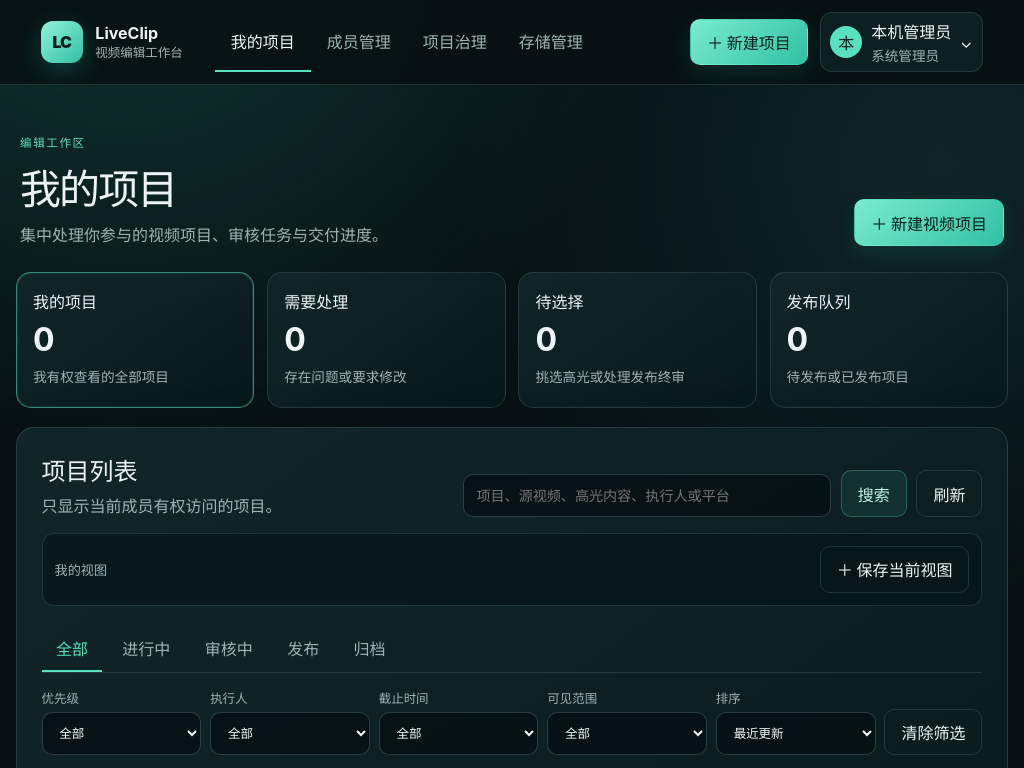
Test: project list states › keeps the optional Bearer token in memory while sending it to the API
This screenshot has width=1024, height=768.
Click the button with aria-label "打开账户与系统设置".
click(901, 42)  # box [820,12,983,72]
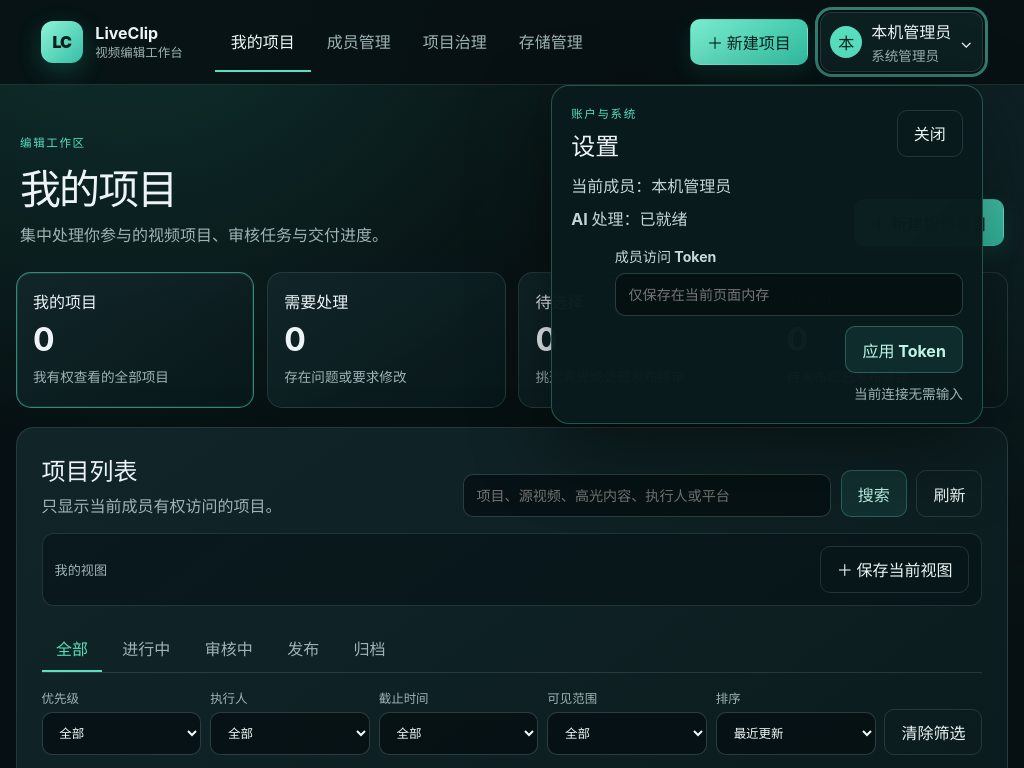
Type "temporary-browser-token" into the password field labelled "成员访问 Token".
click(789, 294); type("temporary-browser-token")  # box [615,273,963,316]
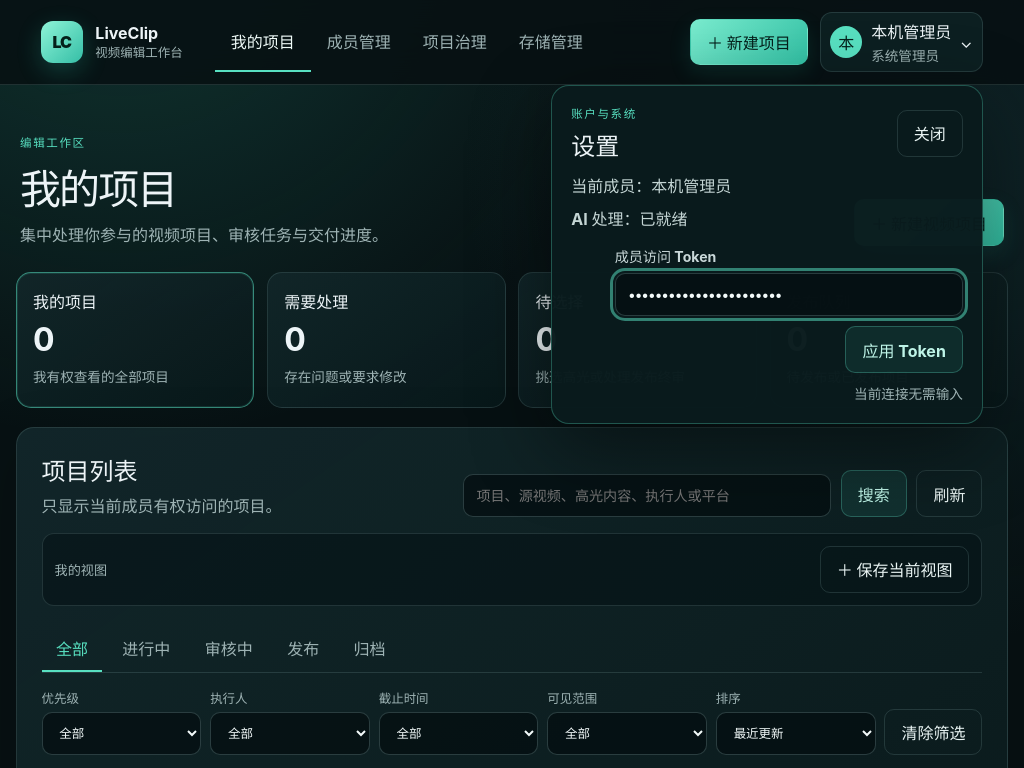
Click the button "应用 Token".
click(904, 350)  # box [845,326,963,373]
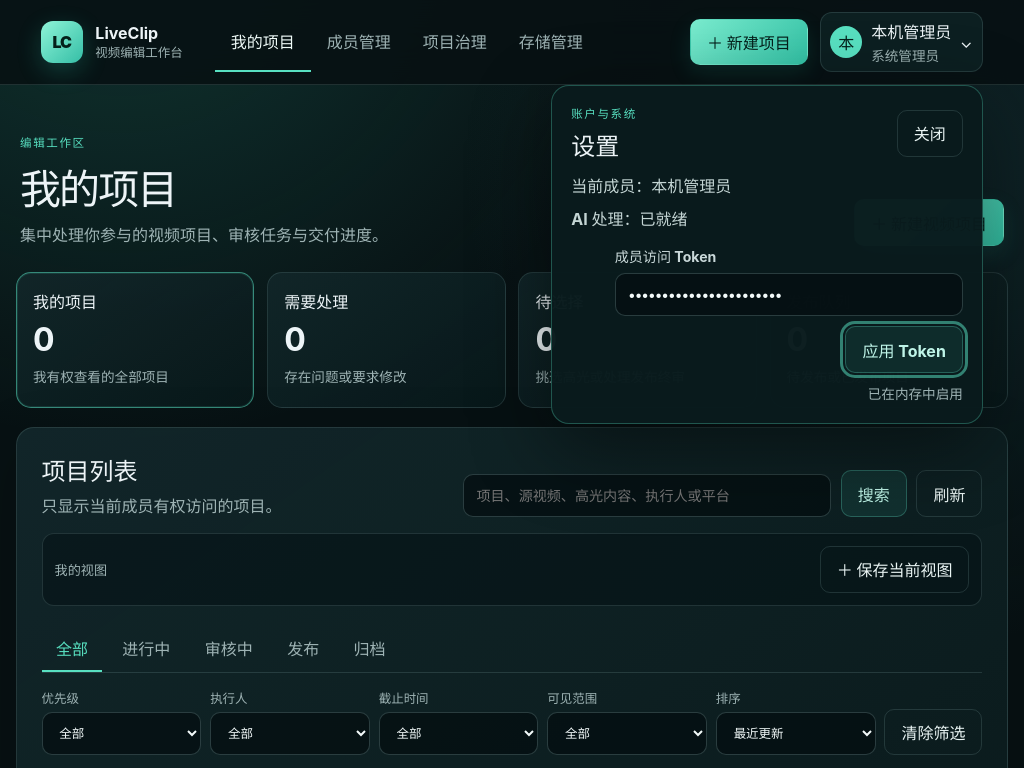
Expected: the text "已在内存中启用" is shown, [868,383,963,403]
